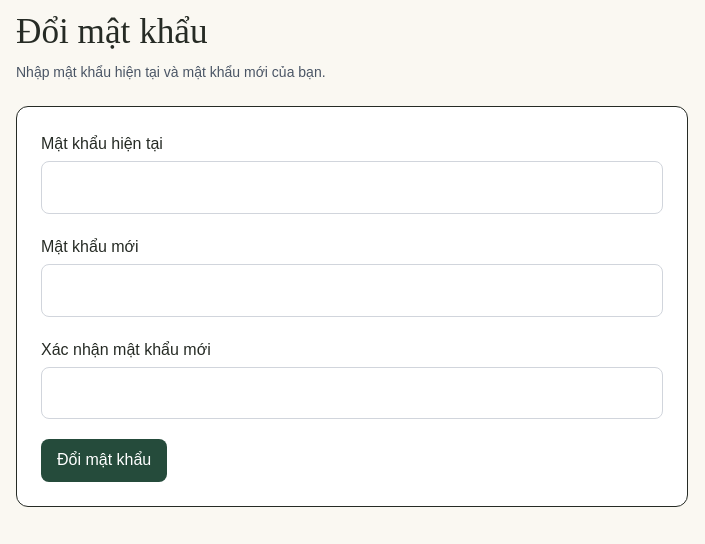
Test: change-password validation rejects a mismatch before an API request
Type "Old-password@123" into the password field labelled "Mật khẩu hiện tại" at (352, 188), box 41,161 -> 663,214
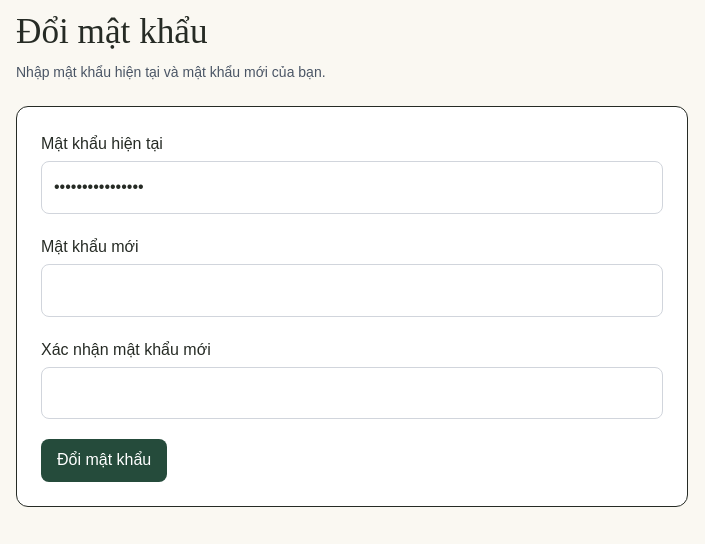
Type "New-password@456" into the password field labelled "Mật khẩu mới" at (352, 290), box 41,264 -> 663,317
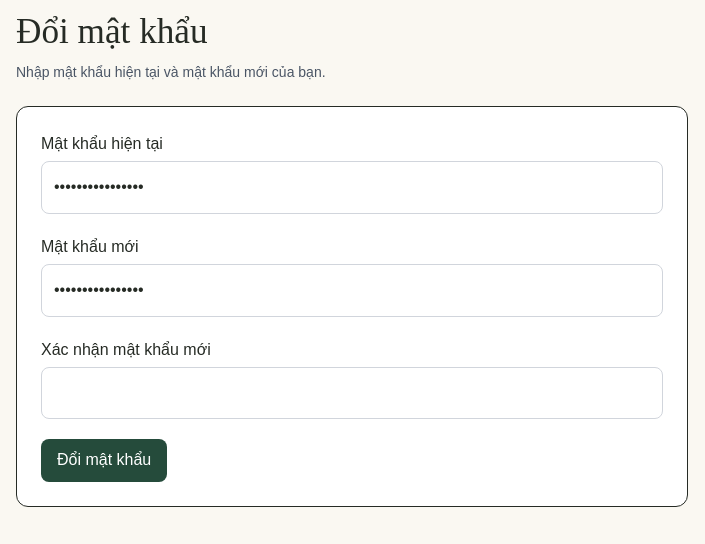
Type "Other-password@789" into the password field labelled "Xác nhận mật khẩu mới" at (352, 393), box 41,367 -> 663,419
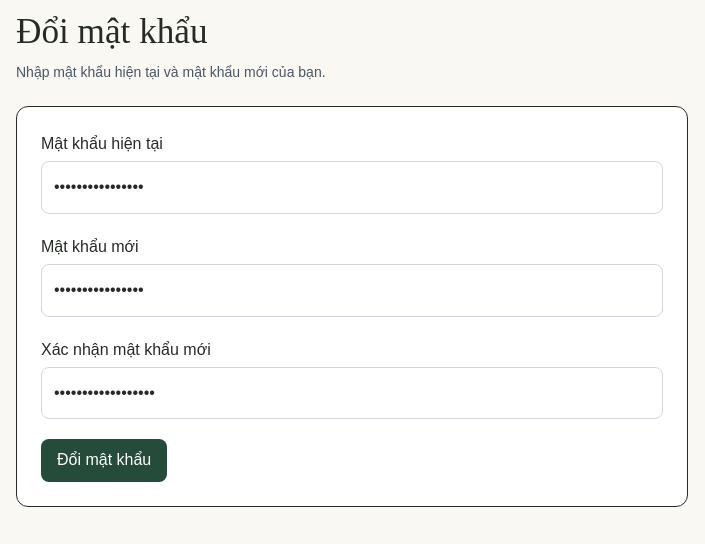
Submit the form
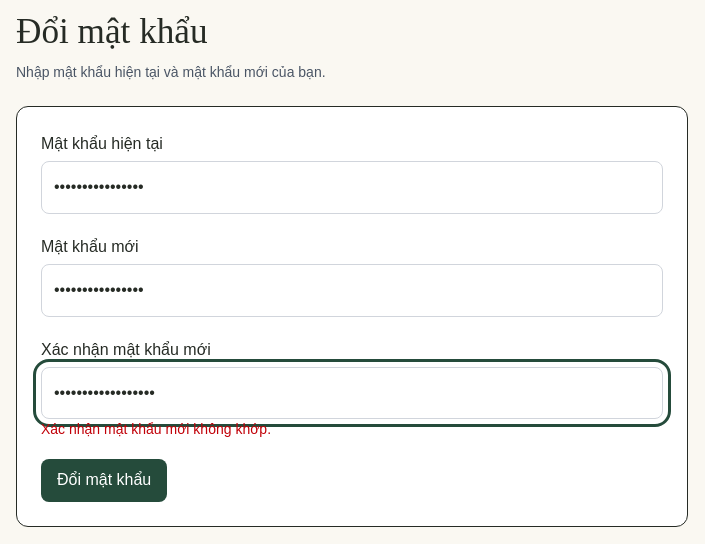
Now the text "Xác nhận mật khẩu mới không khớp" is shown, box 41,421 -> 271,437
